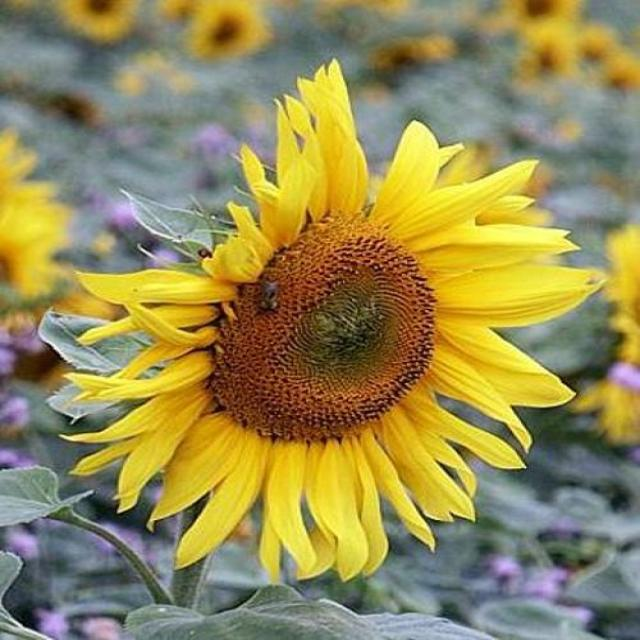sunflower: (58, 58, 617, 589), (0, 122, 61, 308), (559, 354, 640, 446), (184, 0, 279, 63), (596, 219, 640, 355), (361, 36, 463, 88), (504, 22, 583, 81), (59, 0, 149, 50), (46, 86, 118, 138), (487, 1, 591, 33), (597, 52, 640, 101), (569, 25, 617, 68), (304, 0, 412, 19), (153, 0, 214, 23)
